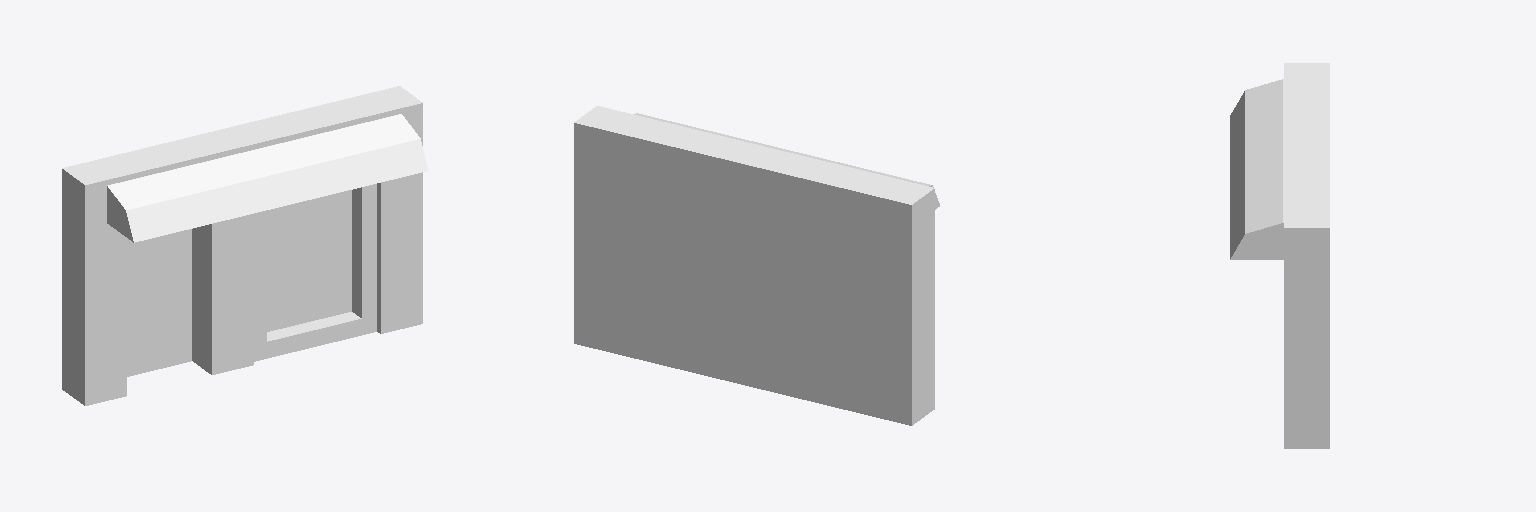
File: doorframe_glass_tent.obj
3 renders of one model, left to right at view 1: azimuth 30°, elevation 25°; view 2: azimuth 150°, elevation 25°; view 3: azimuth 270°, elevation 25°, orthographic.
Visible parts, largest first — view 1: building-door-window.001, window-white-large.003; view 2: building-door-window.001; view 3: building-door-window.001.
Part boxes in pixels (bbox=[...]): building-door-window.001: bbox=[62, 86, 428, 405]; window-white-large.003: bbox=[254, 184, 376, 361]; building-door-window.001: bbox=[574, 106, 939, 425]; building-door-window.001: bbox=[1230, 63, 1329, 448].
Bounding box in the file's own units: 1 × 0.625 × 0.2582.